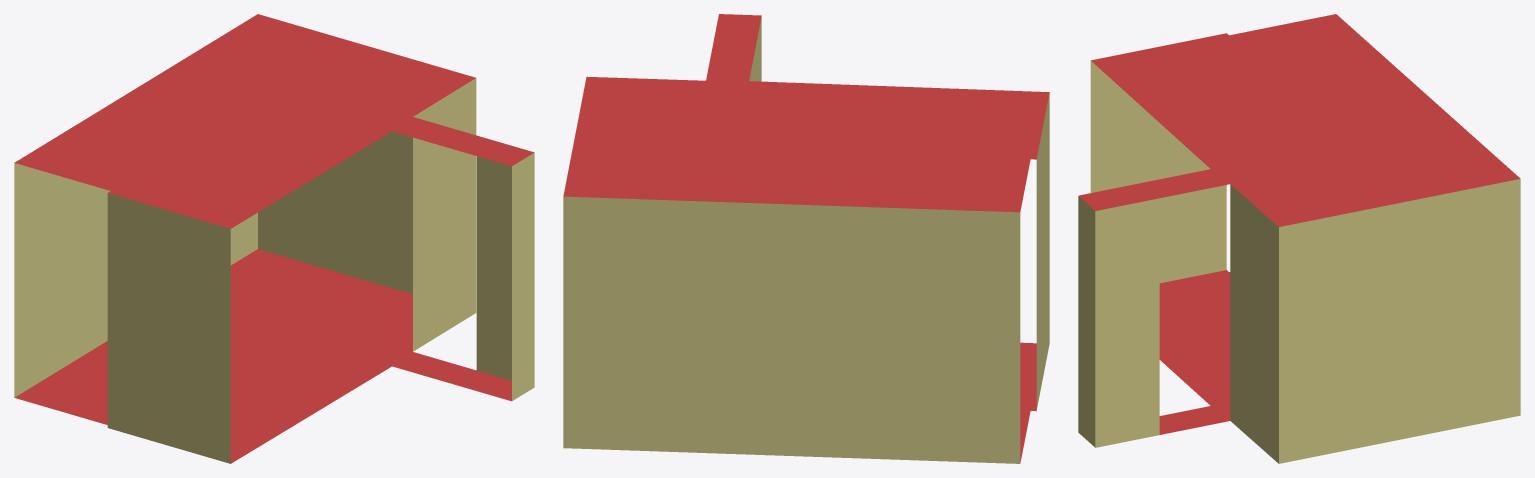
The picture shows the model from 3 angles, left to right: view 1: azimuth 30°, elevation 25°; view 2: azimuth 150°, elevation 25°; view 3: azimuth 270°, elevation 25°; orthographic projection. The views are drawn at different scales.
Size of the model in its own units: 12.45 by 10.93 by 6.45.
